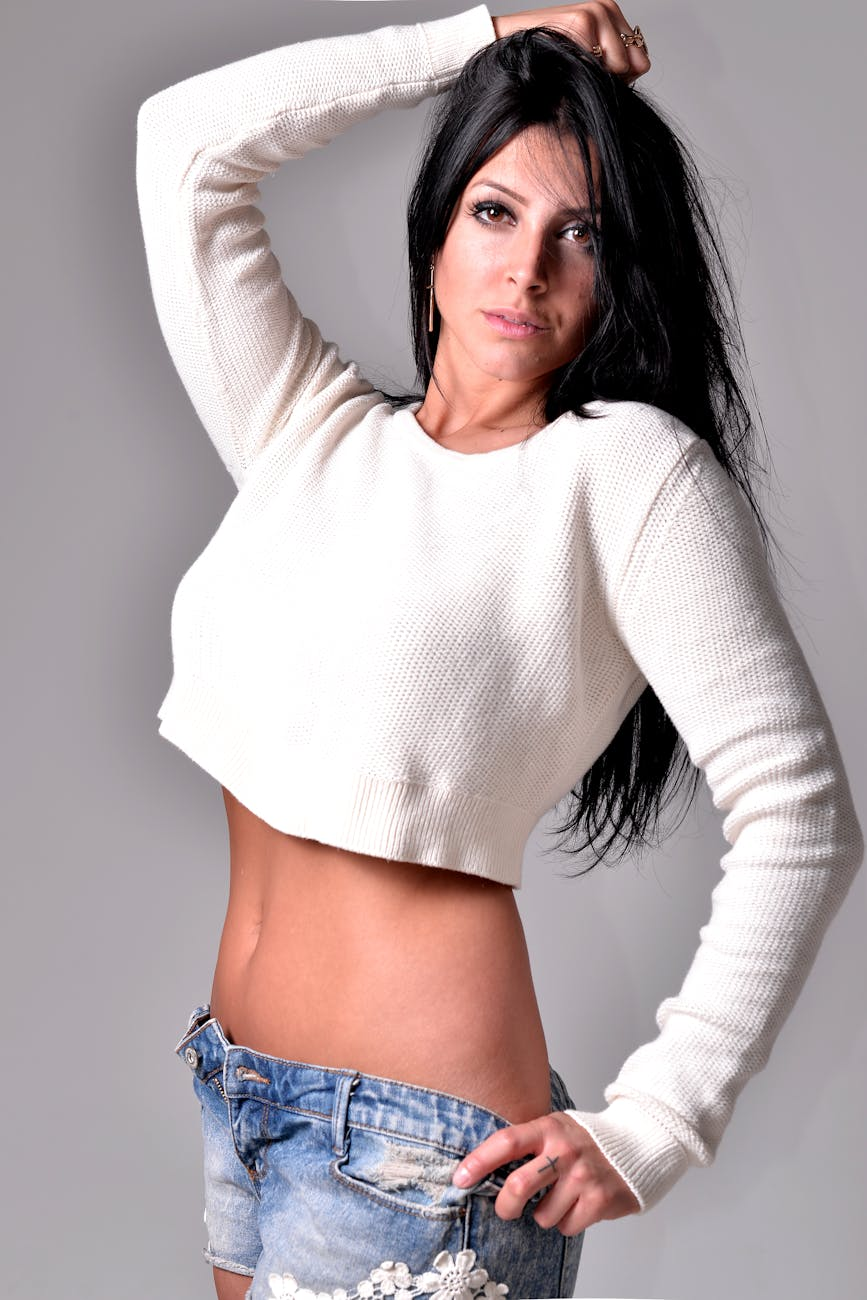crop_top: (141, 366, 696, 891)
shorts: (173, 1041, 626, 1299)
